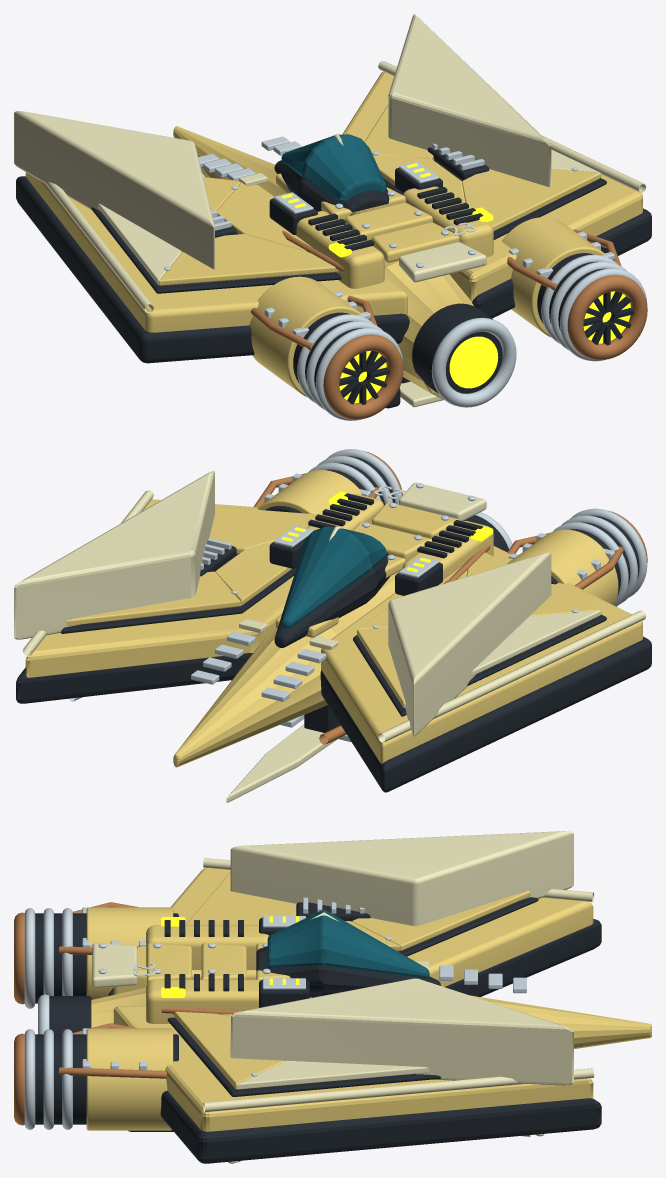
3 views of the same model, one above another, from view 1: azimuth 30°, elevation 25°; view 2: azimuth 150°, elevation 25°; view 3: azimuth 270°, elevation 25° (orthographic).
Parts seen in each view (by area): view 1: SolidHull_23; view 2: SolidHull_23; view 3: SolidHull_23.
Boxes of the visible parts, x1=… form: SolidHull_23: x1=14, y1=14, x2=651, y2=420; SolidHull_23: x1=14, y1=449, x2=651, y2=802; SolidHull_23: x1=14, y1=831, x2=651, y2=1163.
Size of the model in its own units: 3.18 by 1.17 by 3.38.
